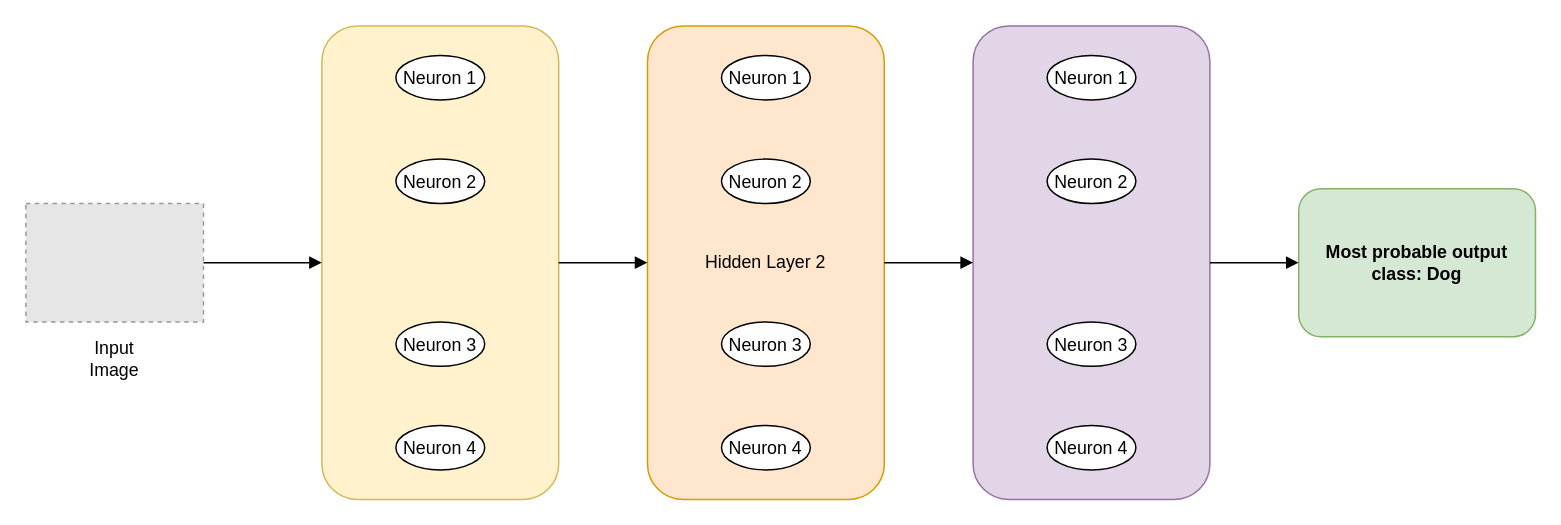
The diagram is 1561 pixels wide and 525 high, and some of its shapes have lost their labels. Grey dashed boxes stand in for pictures. Here are the shapes that lost their labels. From the top down, the box of each, then its label:
(320, 24, 559, 500): Hidden Layer 1
(972, 24, 1210, 500): Hidden Layer 3
